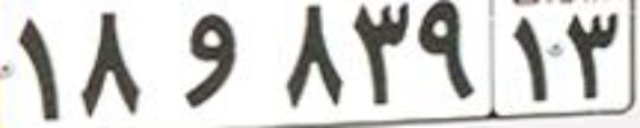1: (17, 18, 61, 119), (509, 16, 550, 100)
3: (351, 2, 410, 106), (564, 11, 619, 99)
8: (81, 12, 143, 115), (284, 5, 344, 106)
9: (416, 0, 474, 98)
vav: (182, 13, 238, 107)
